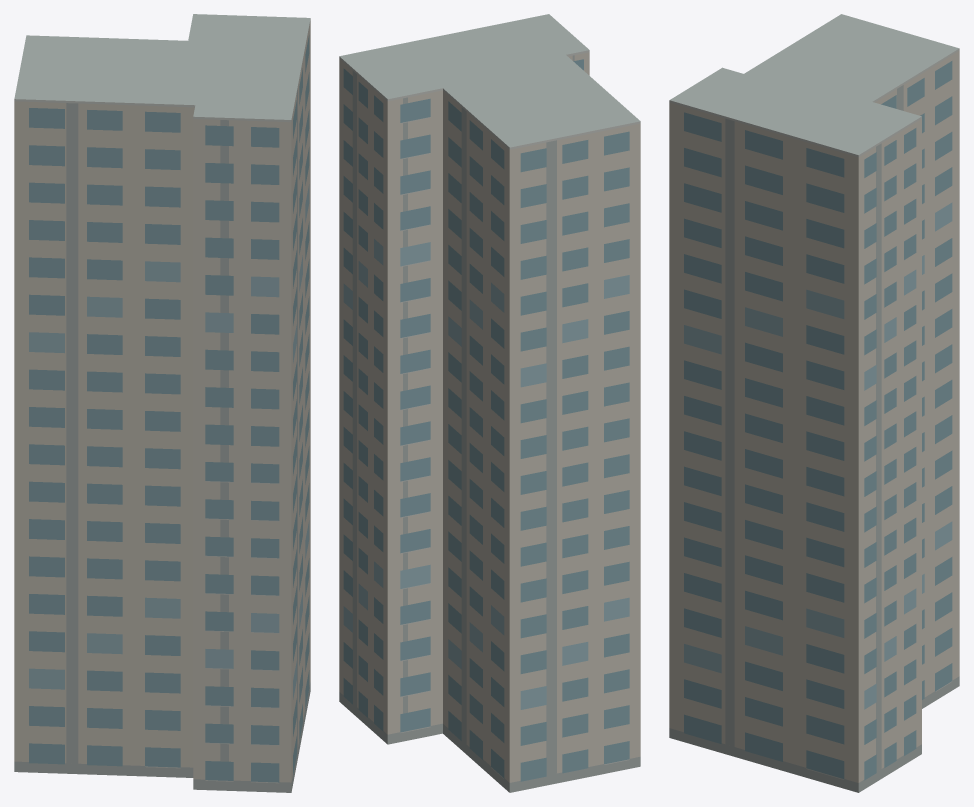
The model's file is residential-9ca6a441-05aa-429e-a2e2-ba0fba92a9e1.glb.
The picture shows the model from 3 angles, left to right: view 1: azimuth 30°, elevation 25°; view 2: azimuth 150°, elevation 25°; view 3: azimuth 270°, elevation 25°; orthographic projection. The views are drawn at different scales.
Visible parts, largest first — view 1: residential-9ca6a441-05aa-429e-a2e2-ba0fba92a9e1.tmp; view 2: residential-9ca6a441-05aa-429e-a2e2-ba0fba92a9e1.tmp; view 3: residential-9ca6a441-05aa-429e-a2e2-ba0fba92a9e1.tmp.
Part boxes in pixels (x1,y1,x2,y2): residential-9ca6a441-05aa-429e-a2e2-ba0fba92a9e1.tmp: (14, 14, 310, 792); residential-9ca6a441-05aa-429e-a2e2-ba0fba92a9e1.tmp: (339, 14, 640, 792); residential-9ca6a441-05aa-429e-a2e2-ba0fba92a9e1.tmp: (669, 14, 959, 792).
Size of the model in its own units: 34.68 by 73 by 30.1.
